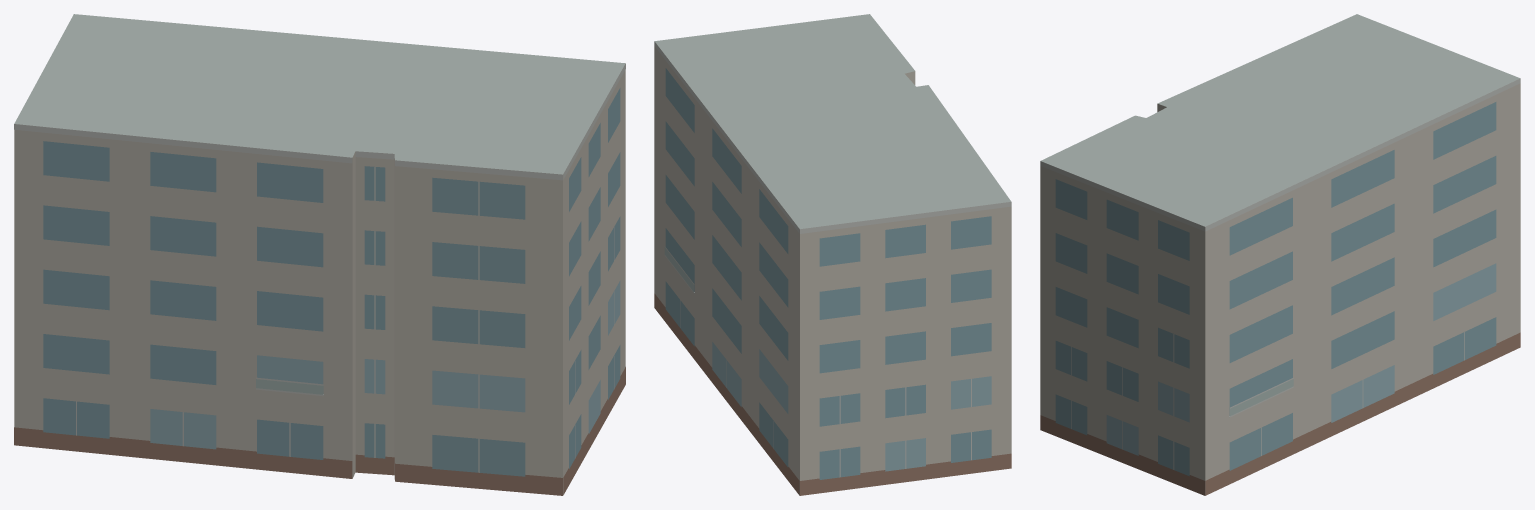
File: survey-upis-32935027.glb
3 views of the same model, side by side, from view 1: azimuth 30°, elevation 25°; view 2: azimuth 150°, elevation 25°; view 3: azimuth 270°, elevation 25° (orthographic). The views are drawn at different scales.
Visible parts, largest first — view 1: survey-upis-32935027.tmp; view 2: survey-upis-32935027.tmp; view 3: survey-upis-32935027.tmp.
Part boxes in pixels (box(x1,y1,x2,y2)): survey-upis-32935027.tmp: box(14, 14, 625, 495); survey-upis-32935027.tmp: box(654, 14, 1011, 495); survey-upis-32935027.tmp: box(1040, 14, 1520, 495).
Bounding box in the file's own units: 22.91 × 13.5 × 21.85.
